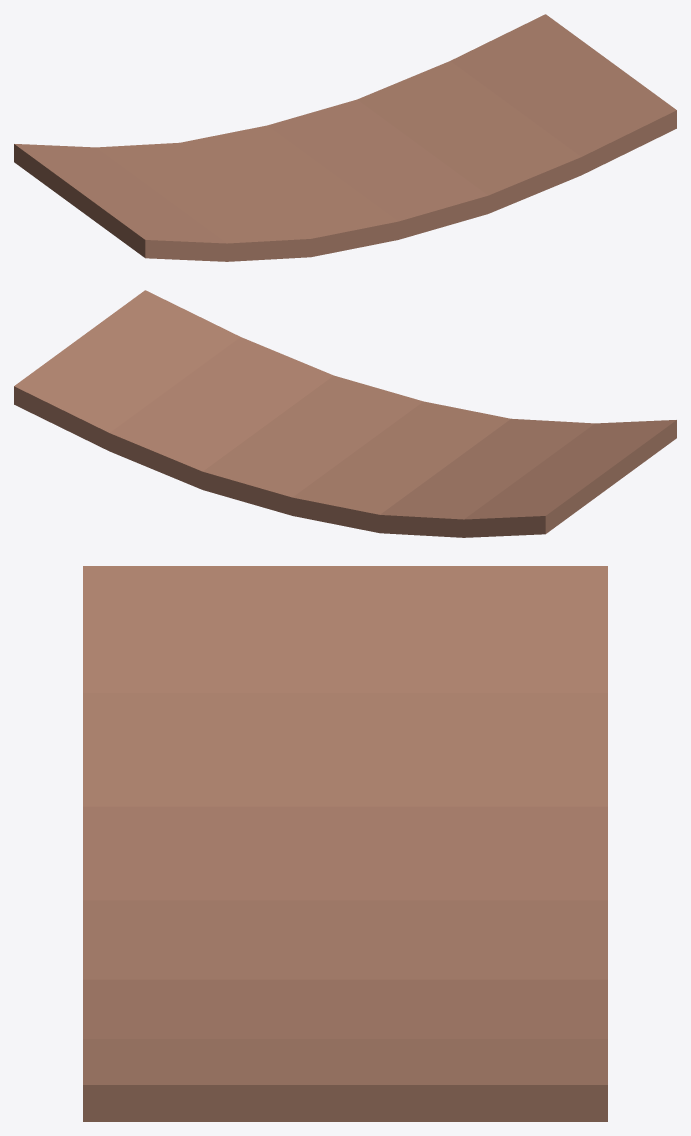
The model's file is Playground_Bridge_FBX.fbx.
3 views of the same model, one above another, from view 1: azimuth 30°, elevation 25°; view 2: azimuth 150°, elevation 25°; view 3: azimuth 270°, elevation 25° (orthographic). The views are drawn at different scales.
Visible parts, largest first — view 1: bridge; view 2: bridge; view 3: bridge.
Part boxes in pixels (left/top/right/bottom): bridge: left=14, top=14, right=676, bottom=261; bridge: left=14, top=290, right=676, bottom=537; bridge: left=83, top=566, right=607, bottom=1121.
Size of the model in its own units: 2052 by 228 by 878.
